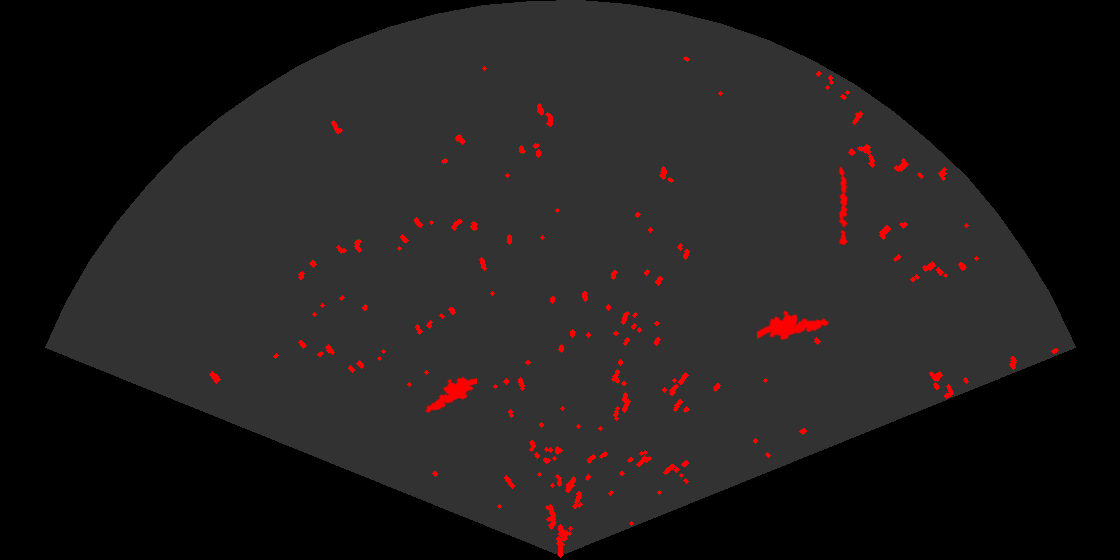chain: (837, 166, 850, 246)
frogman: (757, 309, 831, 342), (423, 375, 477, 414)
